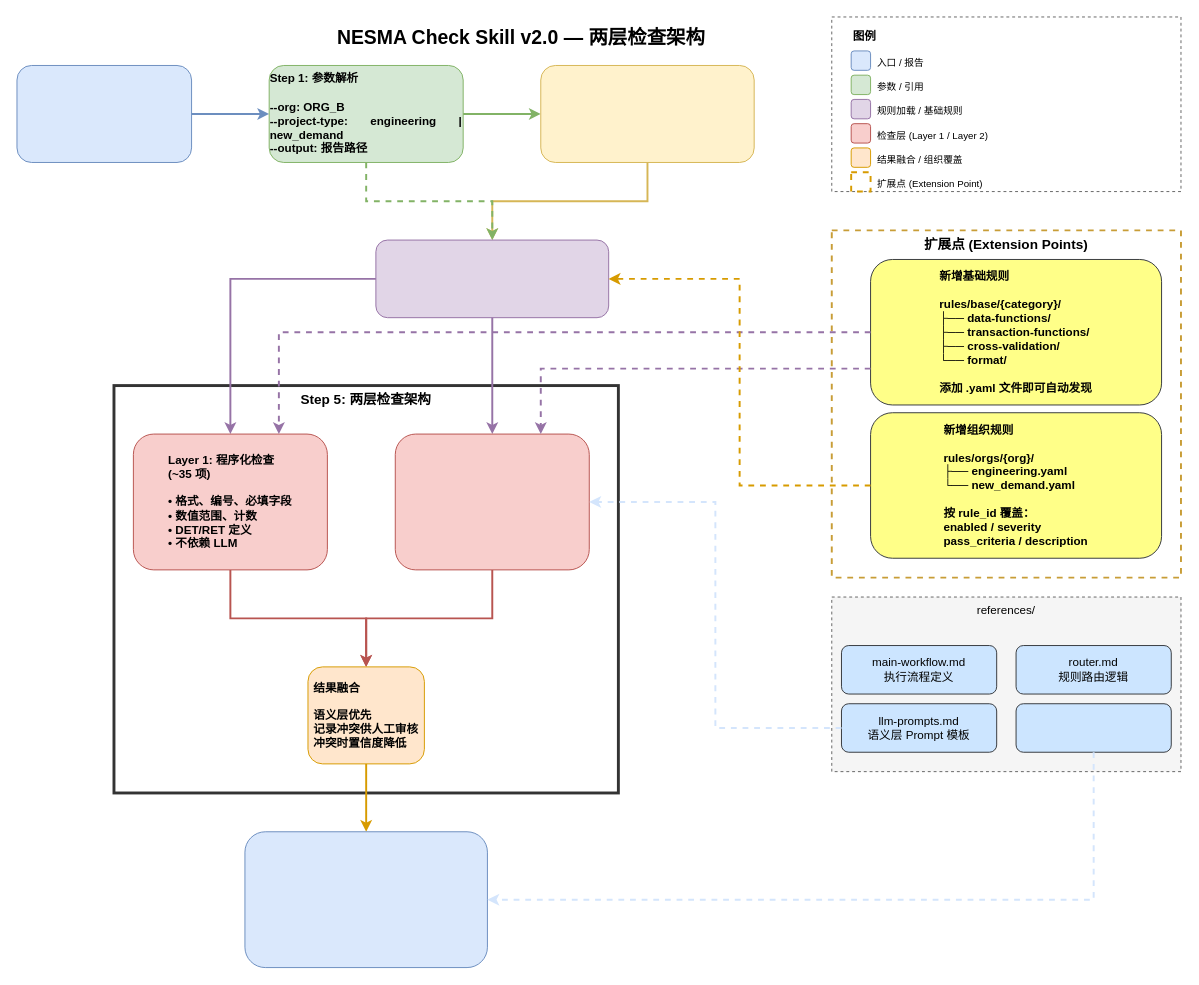
This 1199x985 diagram has some shape labels left out. The centre of each missing label's shape, as x and y in pixels:
"Layer 2: LLM 语义检查 (~27 项) • 分类准确性 • 复杂度评估 • 跨文档一致性 • 复用当前 agent LLM" goes at (x=491, y=501).
"report-template.md 报告格式模板" goes at (x=1093, y=727).
"SKILL.md 入口文件 • /nesma-check 命令 • --org / --project-type • --output 参数" goes at (x=104, y=113).
"Step 2-4: 文档输入 + 类型识别 .docx (SRS/需求说明书) .xlsx (功能点拆分表) .md / .doc / .xls" goes at (x=647, y=113).
"Step 3: 规则加载 自动发现 rules/base/ + 组织覆盖 rules/orgs/{org}/" goes at (x=492, y=278).
"Step 6: 生成检查报告 三级结构： ① 摘要（通过率/整体结论） ② 详情（8 列表格） ③ 建议（按规则 ID 分组） 自动验证格式 (Step 7)" goes at (x=365, y=899).
